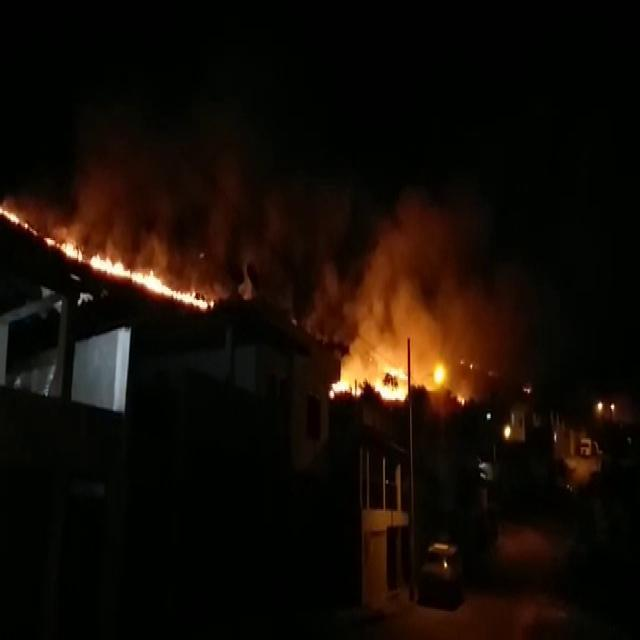Fire: (92, 250, 215, 314), (327, 344, 408, 409), (405, 344, 445, 394), (47, 234, 86, 266), (1, 207, 37, 238)
Smoke: (448, 280, 496, 383), (389, 276, 442, 359), (390, 199, 444, 269), (68, 164, 100, 248), (358, 247, 386, 343), (304, 264, 336, 336), (134, 229, 166, 264), (102, 215, 128, 256), (237, 264, 256, 302)
